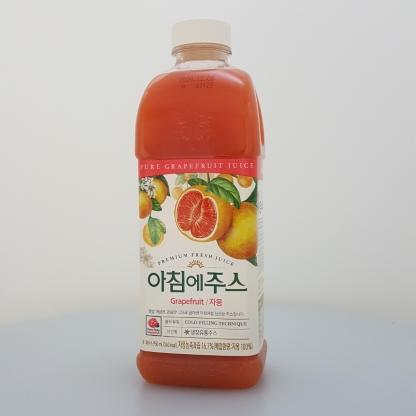-----------950ML: (134, 18, 268, 390)
